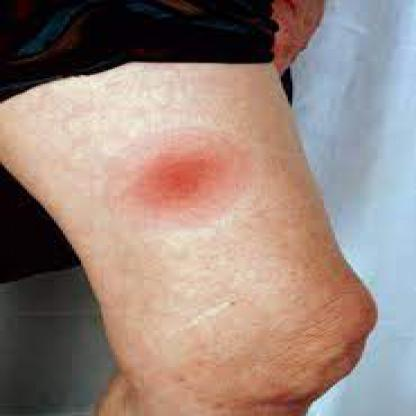Tick: (113, 126, 258, 224)
